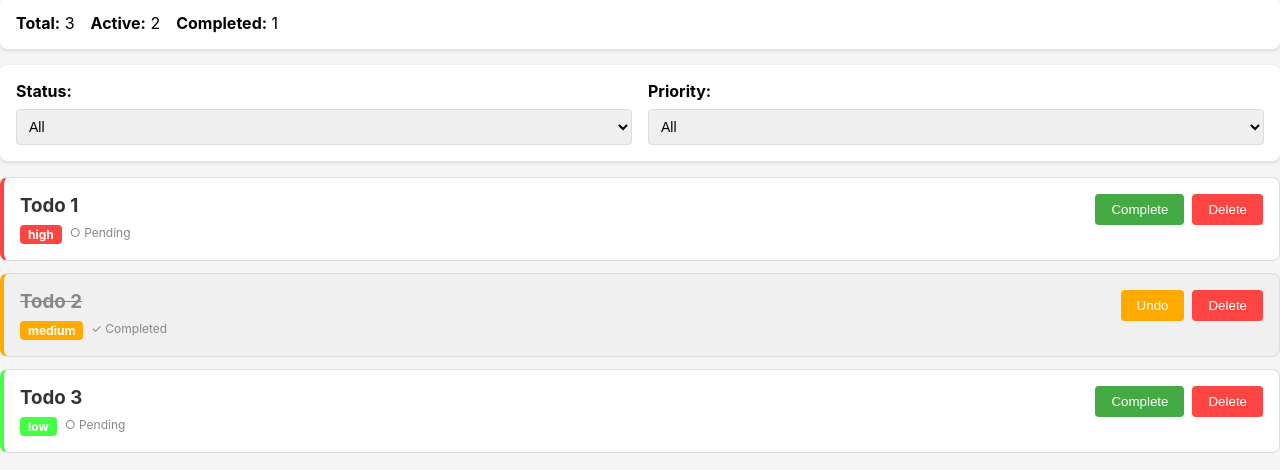
Test: TodoList Component › filters todos by active status
Step 1. Select "Active" in the dropdown with test id "status-filter" → coordinates (324, 127), box [16,109,632,145]
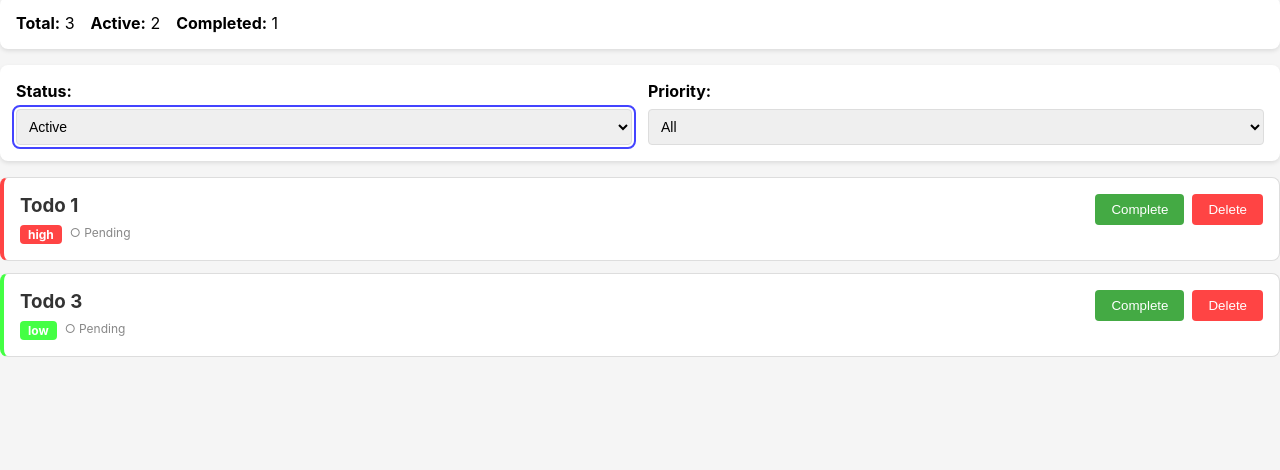
Check: the heading "Todo 1" is shown, box [20,194,78,217]
Check: the heading "Todo 2" is gone
